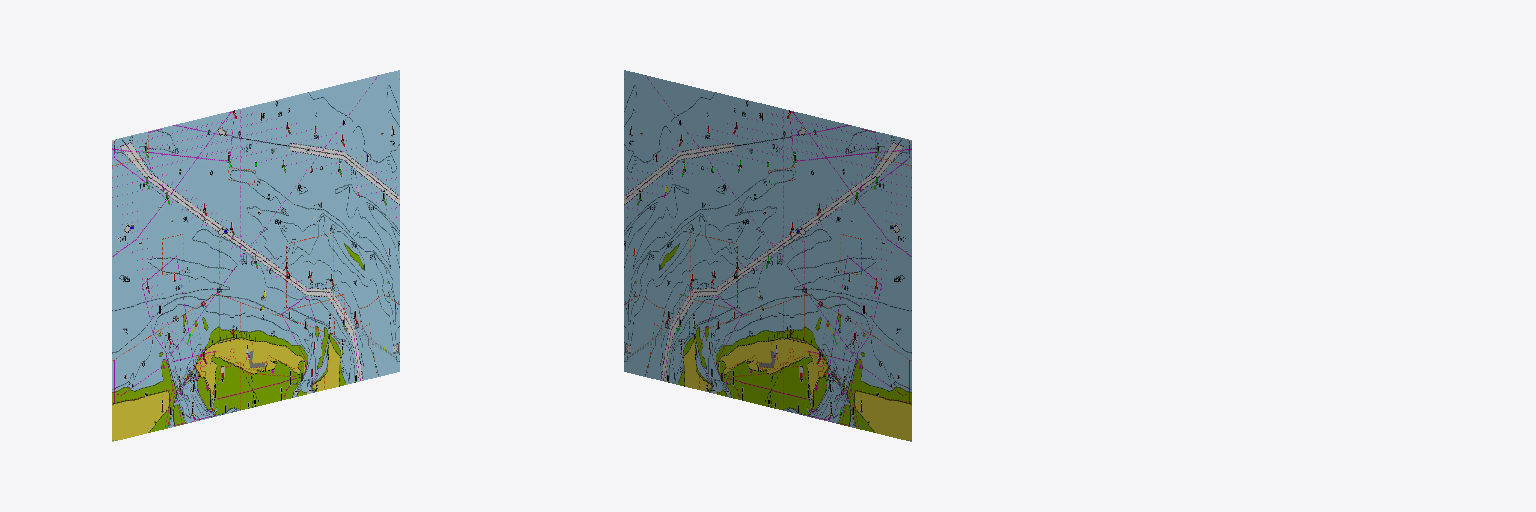
3 renders of one model, left to right at view 1: azimuth 30°, elevation 25°; view 2: azimuth 150°, elevation 25°; view 3: azimuth 270°, elevation 25°, orthographic.
Parts seen in each view (by area): view 1: plane; view 2: plane; view 3: none.
Boxes of the visible parts, x1=… form: plane: x1=112, y1=70, x2=399, y2=441; plane: x1=624, y1=70, x2=911, y2=441.
Size of the model in its own units: 0.3 by 0.3 by 0.
1 materials, 1 textured.